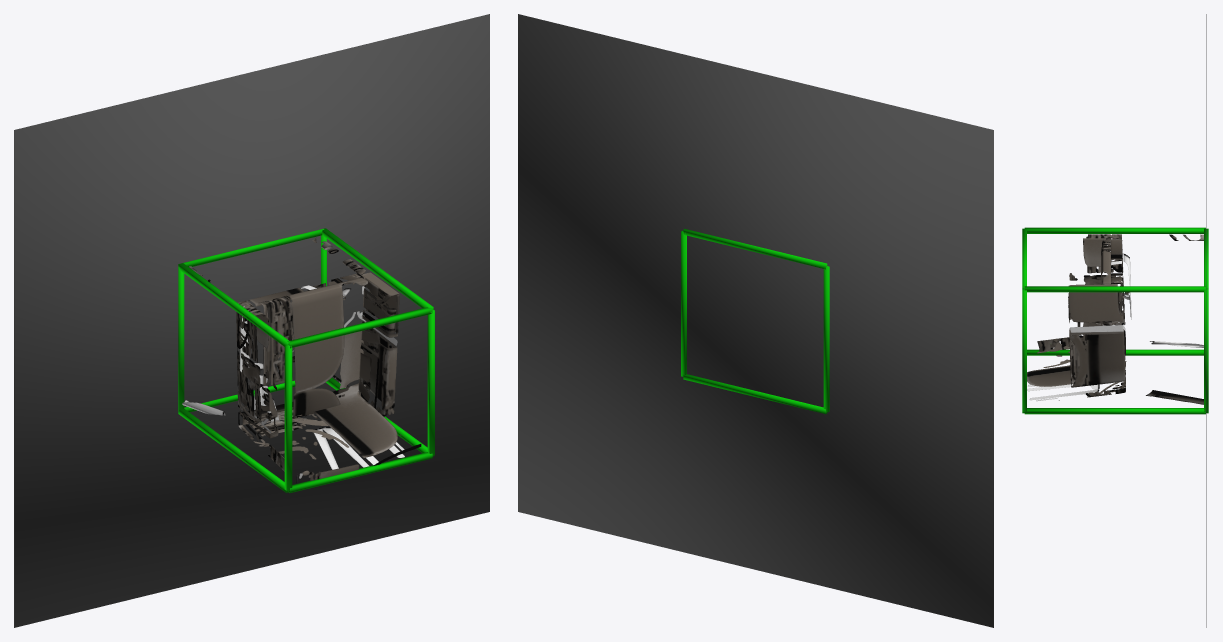
3 renders of one model, left to right at view 1: azimuth 30°, elevation 25°; view 2: azimuth 150°, elevation 25°; view 3: azimuth 270°, elevation 25°, orthographic. The views are drawn at different scales.
Size of the model in its own units: 2 by 2 by 0.8057.
